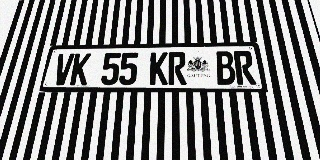5: (100, 53, 121, 85), (119, 52, 138, 85)
B: (215, 51, 237, 85)
K: (69, 53, 91, 85), (149, 52, 168, 85)
R: (233, 51, 257, 85), (168, 52, 187, 85)
V: (52, 53, 75, 85)
